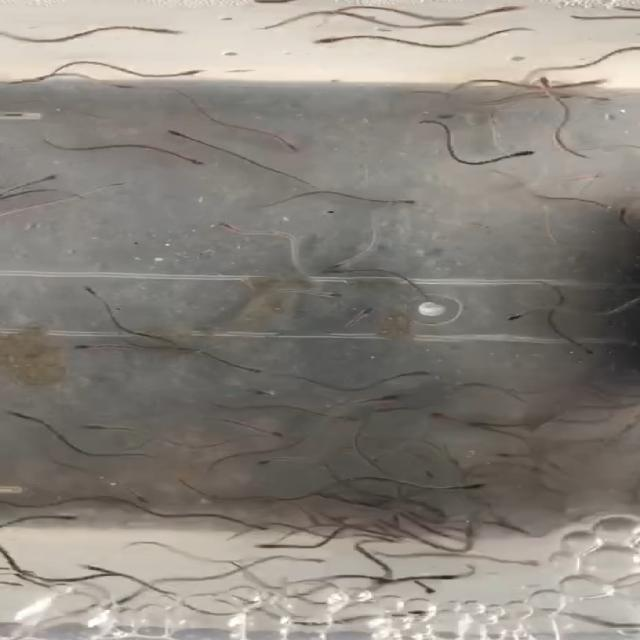active_glass_eel: (184, 210, 252, 240), (264, 132, 328, 155), (565, 340, 614, 365), (500, 301, 540, 331), (104, 81, 167, 100), (499, 518, 541, 544), (462, 421, 520, 439), (52, 340, 110, 358), (239, 425, 295, 443), (46, 514, 100, 532), (599, 202, 635, 229), (149, 25, 198, 44), (232, 356, 268, 381), (388, 193, 430, 214), (312, 34, 350, 57), (371, 392, 412, 412), (447, 479, 498, 495), (393, 366, 438, 384), (310, 265, 363, 280), (396, 606, 441, 623), (450, 522, 488, 542), (424, 570, 469, 586), (346, 302, 382, 321), (317, 286, 347, 307), (104, 598, 132, 620), (238, 388, 282, 402), (230, 452, 268, 468), (80, 422, 123, 436), (487, 150, 547, 160), (159, 122, 192, 140), (32, 172, 74, 186), (481, 4, 539, 14), (427, 22, 474, 34), (76, 283, 111, 299), (369, 577, 398, 596), (6, 410, 50, 422), (242, 543, 300, 552), (81, 563, 115, 577), (253, 523, 282, 539), (448, 453, 478, 468), (406, 469, 450, 479), (131, 493, 156, 510), (184, 67, 224, 77), (181, 160, 212, 172), (536, 70, 557, 87), (100, 570, 127, 583), (593, 95, 620, 108), (593, 76, 617, 90), (390, 514, 410, 530), (434, 410, 455, 425), (316, 517, 342, 528), (317, 262, 362, 268), (496, 452, 522, 461)
